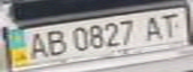0: (66, 24, 90, 53)
2: (103, 19, 124, 48)
7: (118, 16, 142, 46)
8: (87, 21, 106, 51)
A: (21, 29, 51, 61), (139, 12, 169, 43)
B: (39, 27, 69, 57)
T: (154, 10, 187, 39)
